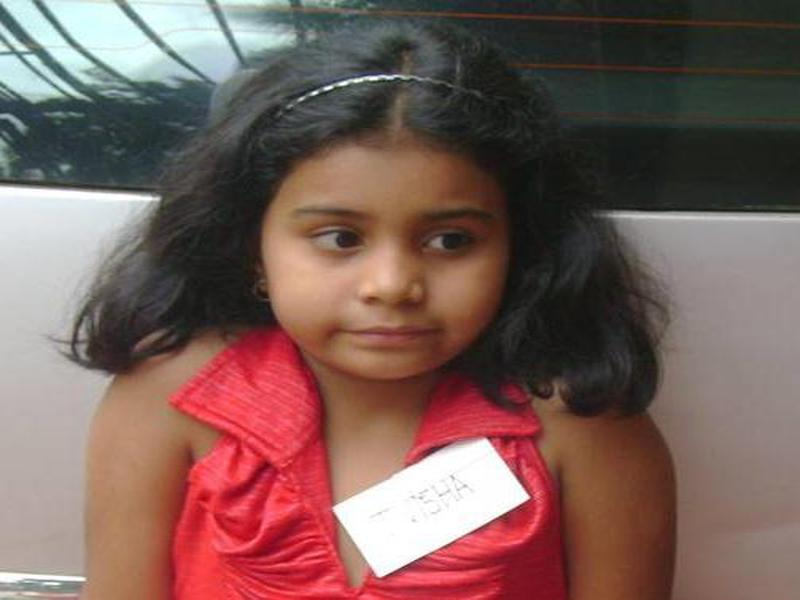without_mask: (259, 144, 504, 385)
